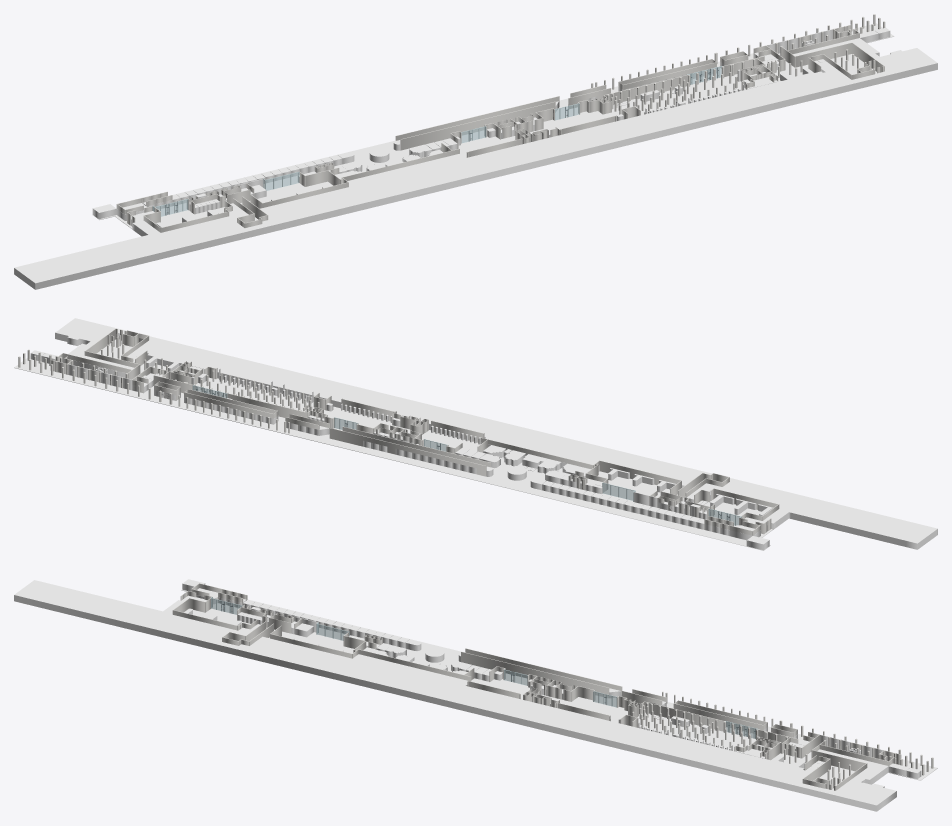
Rendered from buildings-ground-floor.glb.
3 views of the same model, one above another, from view 1: azimuth 30°, elevation 25°; view 2: azimuth 150°, elevation 25°; view 3: azimuth 330°, elevation 25° (orthographic). The views are drawn at different scales.
Parts seen in each view (by area): view 1: area_merah, area_visitor, tembok_pilar_197, tembok_pilar_198, tembok_pilar_177, tembok_pilar_36; view 2: area_merah, area_visitor, tembok_pilar_198, tembok_pilar_197, tembok_pilar_177, tembok_pilar_179, tembok_pilar_36, tembok_pilar_200; view 3: area_merah, area_visitor, tembok_pilar_197, tembok_pilar_198, tembok_pilar_36, tembok_pilar_177, tembok_pilar_205.
Part boxes in pixels (bbox=[...]): area_merah: bbox=[14, 38, 937, 289]; area_visitor: bbox=[92, 23, 894, 228]; tembok_pilar_197: bbox=[400, 101, 555, 150]; tembok_pilar_198: bbox=[395, 96, 559, 140]; tembok_pilar_177: bbox=[342, 148, 459, 180]; tembok_pilar_36: bbox=[603, 74, 688, 103]; area_merah: bbox=[55, 318, 937, 549]; area_visitor: bbox=[14, 339, 773, 550]; tembok_pilar_198: bbox=[329, 428, 486, 476]; tembok_pilar_197: bbox=[342, 426, 490, 467]; tembok_pilar_177: bbox=[480, 437, 592, 469]; tembok_pilar_179: bbox=[599, 460, 681, 484]; tembok_pilar_36: bbox=[226, 393, 307, 417]; tembok_pilar_200: bbox=[184, 392, 273, 420]; area_merah: bbox=[14, 580, 896, 811]; area_visitor: bbox=[181, 589, 937, 790]; tembok_pilar_197: bbox=[461, 651, 609, 698]; tembok_pilar_198: bbox=[465, 648, 622, 695]; tembok_pilar_36: bbox=[644, 701, 725, 731]; tembok_pilar_177: bbox=[358, 649, 471, 681]; tembok_pilar_205: bbox=[674, 703, 763, 733].
Bounding box in the file's own units: 400 × 4.8 × 48.04.
